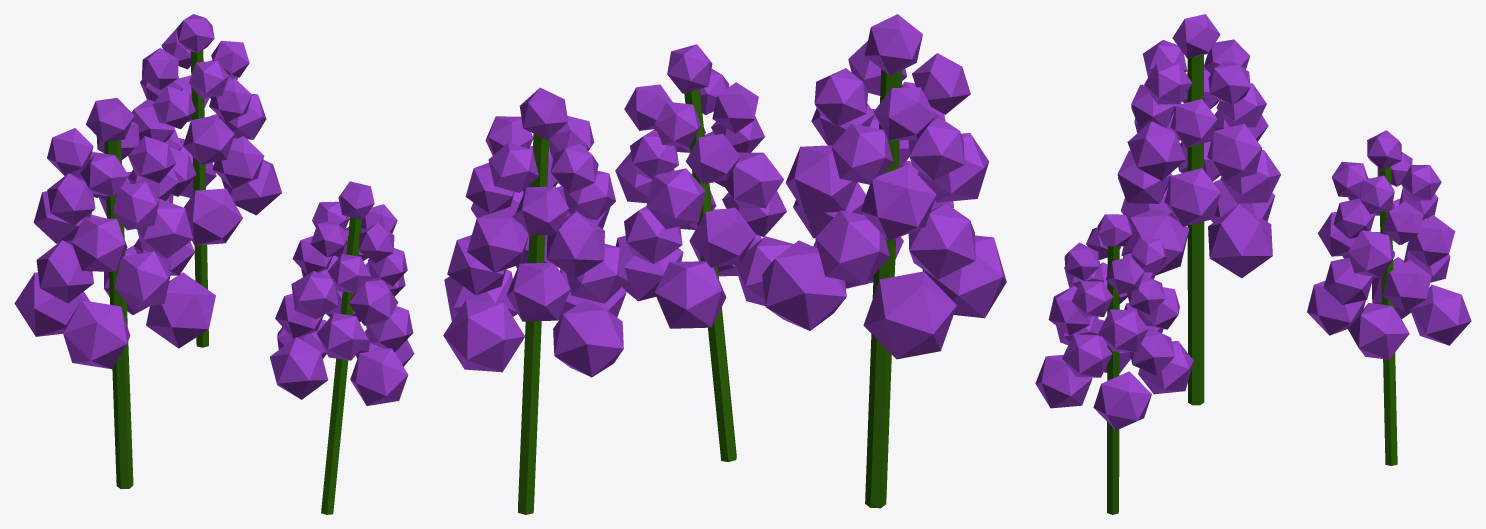
The model's file is flower2.fbx.
3 views of the same model, side by side, from view 1: azimuth 30°, elevation 25°; view 2: azimuth 150°, elevation 25°; view 3: azimuth 270°, elevation 25° (orthographic). The views are drawn at different scales.
Parts seen in each view (by area): view 1: stems.001; view 2: stems.001; view 3: stems.001.
Boxes of the visible parts, bbox=[...] form: stems.001: bbox=[14, 14, 414, 514]; stems.001: bbox=[443, 14, 1006, 514]; stems.001: bbox=[1035, 14, 1471, 514].
Size of the model in its own units: 0.4486 by 0.5535 by 0.531.
